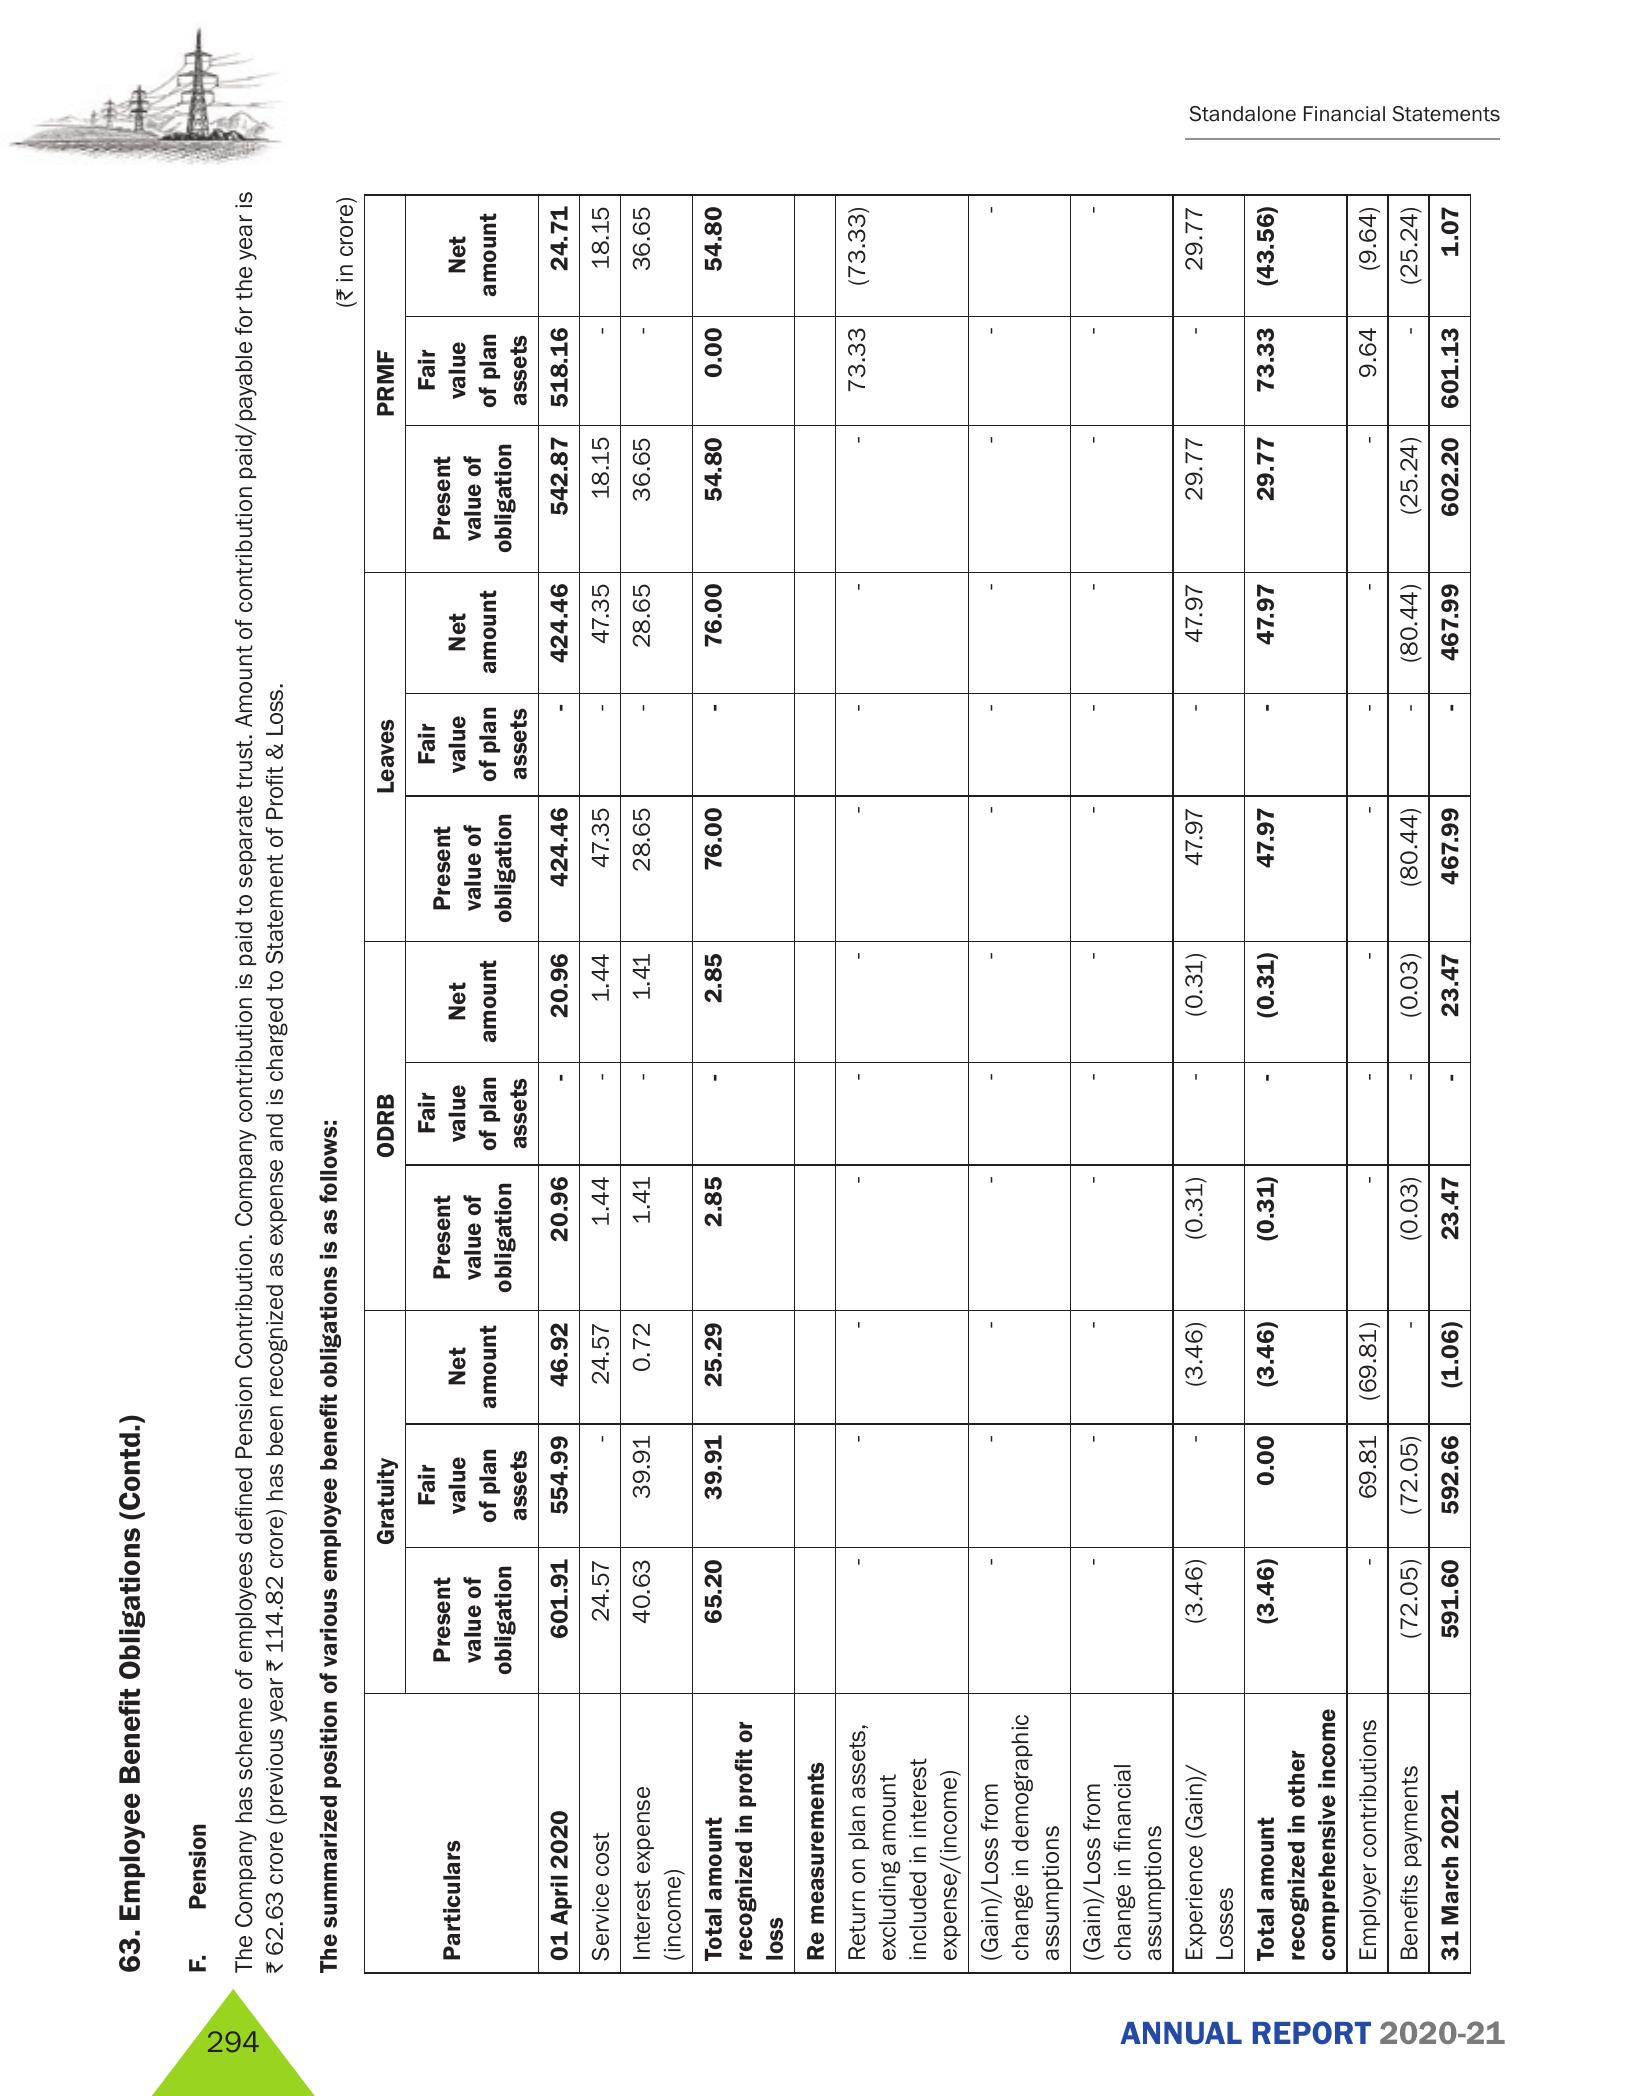Footer: (0, 1974, 1650, 2096)
Header: (0, 0, 1650, 180)
Table: (294, 196, 1499, 1979)
